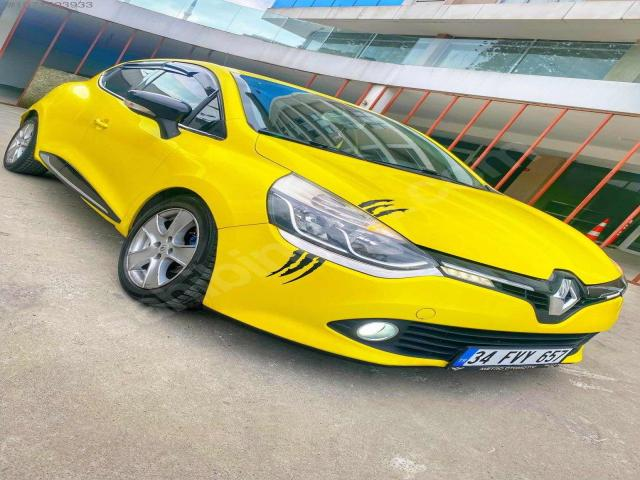plaka: (450, 347, 572, 370)
